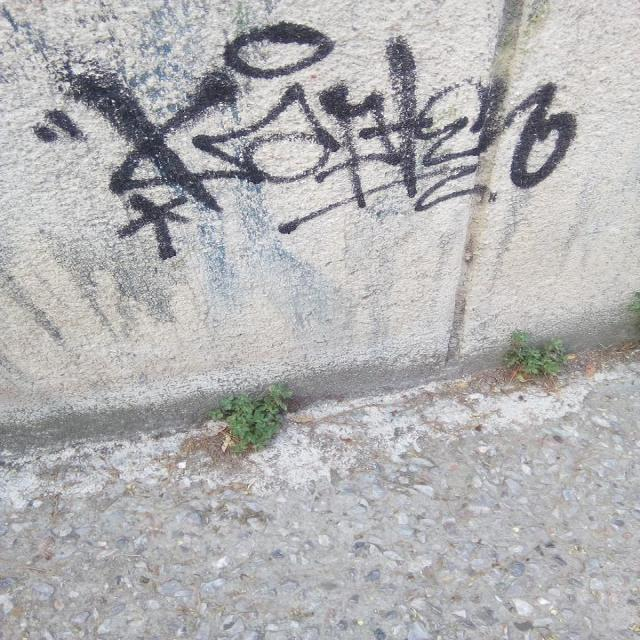nonspitting: (37, 20, 578, 261)
